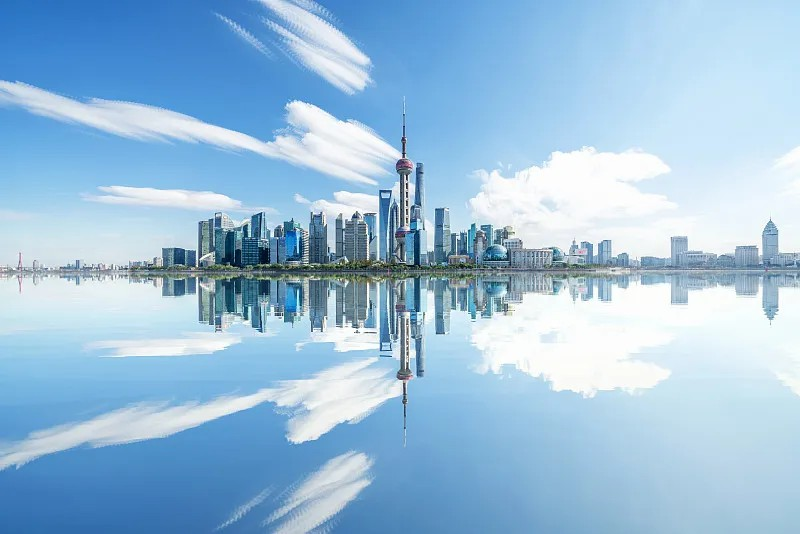Oriental: (393, 94, 413, 264)
